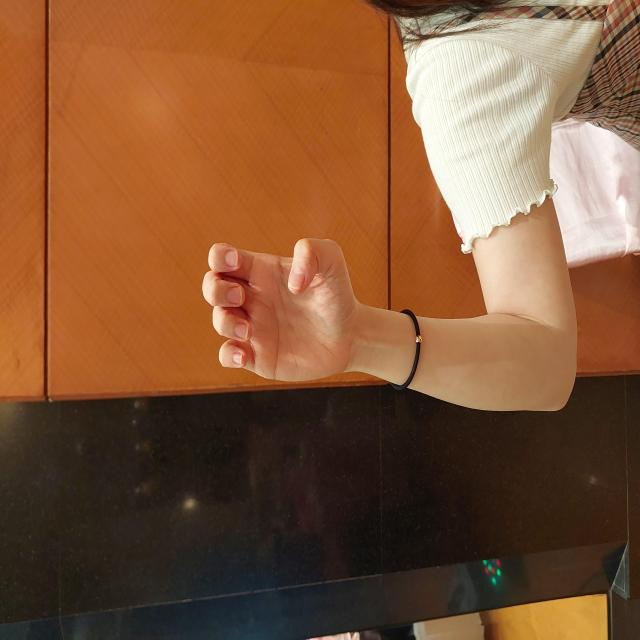E: (256, 200, 402, 361)
